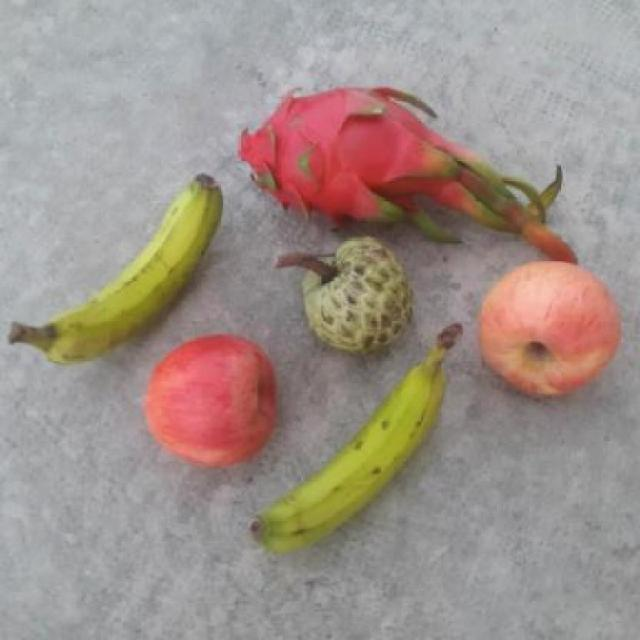apple: (474, 260, 621, 406), (143, 332, 283, 471)
banana: (239, 314, 473, 557), (2, 172, 226, 386)
dragon fruit: (239, 84, 453, 241)
sugar apple: (299, 235, 413, 356)
